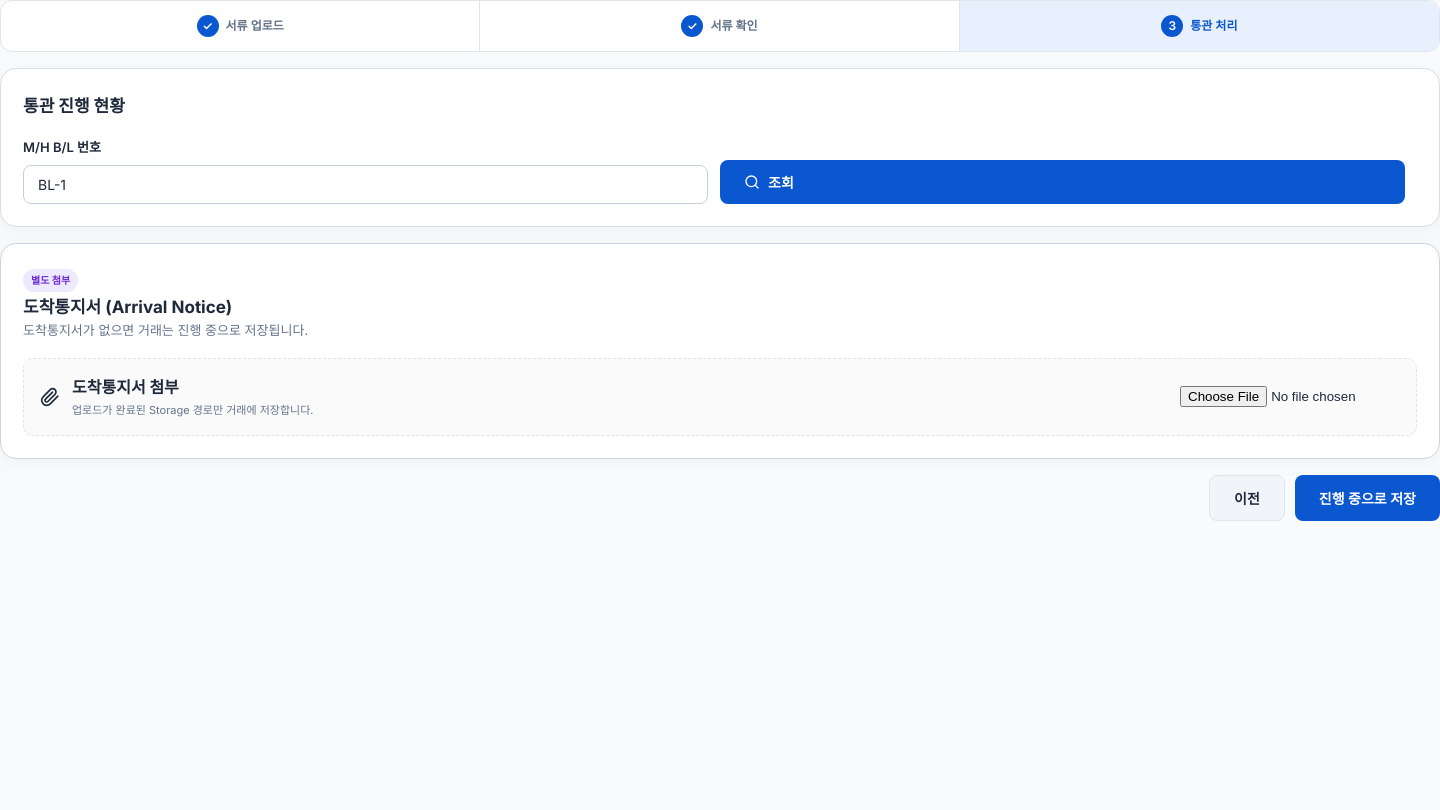
Test: 수입 포워더 진행 중 저장 UX › 최종 제출 문구 대신 진행 중 저장 전용 dialog를 표시한다
Click the button "진행 중으로 저장" at (1367, 498), box [1295,474,1439,520]
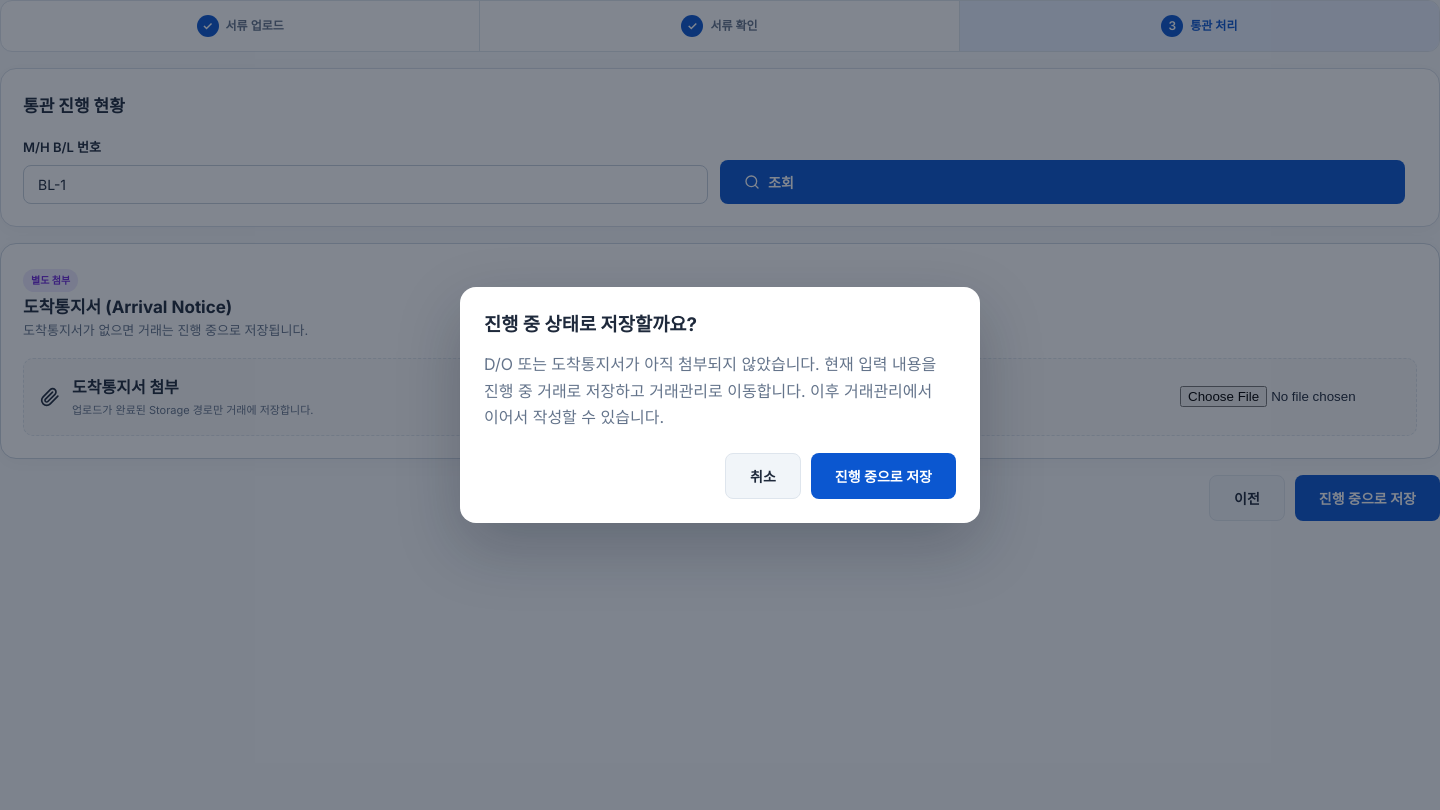
Expected: the text "진행 중 상태로 저장할까요?" is shown, [484,313,697,336]
Expected: the text "거래관리에서 이어서 작성" is shown, [484,354,936,427]
Expected: the dialog is shown, [460,287,980,523]
